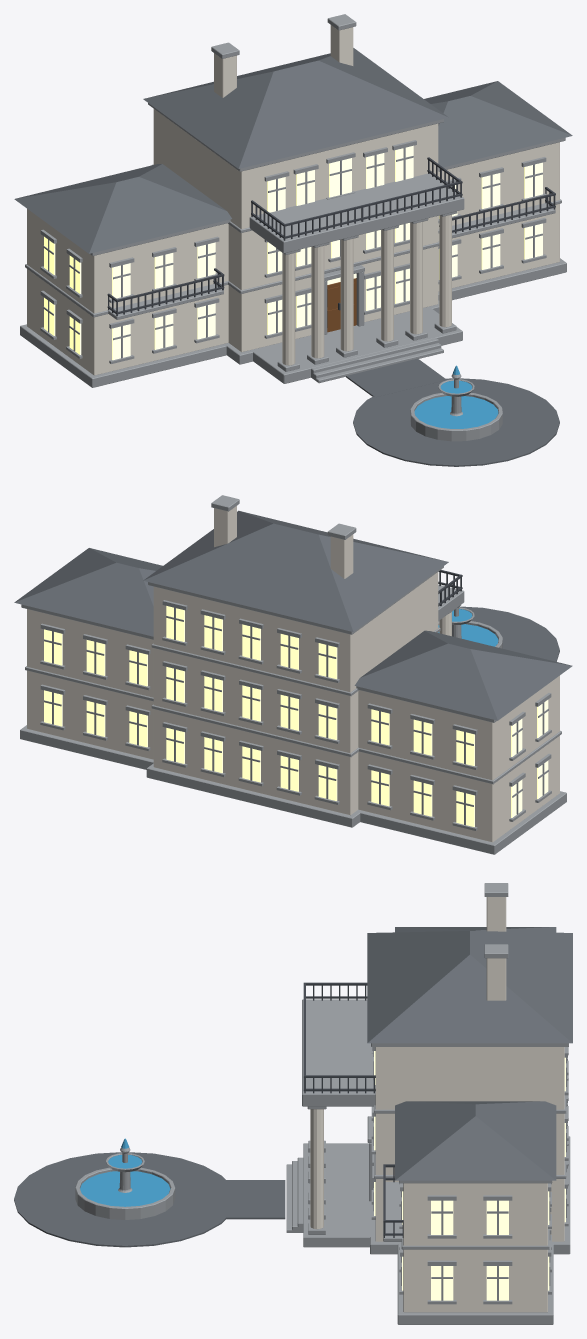
File: grand-white-mansion.glb
3 views of the same model, one above another, from view 1: azimuth 30°, elevation 25°; view 2: azimuth 150°, elevation 25°; view 3: azimuth 270°, elevation 25° (orthographic). The views are drawn at different scales.
Visible parts, largest first — view 1: Walls, Trim, Roof_Main, Windows, Drive, Roof_Wing_L, Columns, WindowFrames, Roof_Wing_R, Railings, FountainWater, Fountain (+1 smaller); view 2: Walls, Roof_Main, Windows, Trim, WindowFrames, Roof_Wing_L, Roof_Wing_R, Drive, FountainWater, Fountain, Railings; view 3: Walls, Trim, Roof_Main, Drive, Roof_Wing_R, Windows, WindowFrames, FountainWater, Fountain, Railings, Columns, Roof_Wing_L.
Boxes of the visible parts, x1=… form: Walls: x1=27, y1=25, x2=559, y2=375; Trim: x1=20, y1=14, x2=566, y2=387; Roof_Main: x1=143, y1=48, x2=448, y2=168; Windows: x1=44, y1=145, x2=542, y2=360; Drive: x1=346, y1=358, x2=559, y2=466; Roof_Wing_L: x1=14, y1=164, x2=231, y2=253; Columns: x1=282, y1=214, x2=451, y2=365; WindowFrames: x1=40, y1=140, x2=546, y2=363; Roof_Wing_R: x1=424, y1=81, x2=572, y2=168; Railings: x1=107, y1=157, x2=555, y2=316; FountainWater: x1=414, y1=365, x2=498, y2=428; Fountain: x1=410, y1=374, x2=502, y2=441; Walls: x1=27, y1=506, x2=559, y2=842; Roof_Main: x1=143, y1=510, x2=448, y2=631; Windows: x1=44, y1=606, x2=548, y2=826; Trim: x1=20, y1=495, x2=566, y2=854; WindowFrames: x1=40, y1=600, x2=551, y2=830; Roof_Wing_L: x1=354, y1=630, x2=572, y2=720; Roof_Wing_R: x1=14, y1=548, x2=162, y2=636; Drive: x1=459, y1=606, x2=559, y2=661; FountainWater: x1=438, y1=609, x2=498, y2=646; Fountain: x1=438, y1=605, x2=502, y2=648; Railings: x1=438, y1=570, x2=462, y2=606; Walls: x1=375, y1=897, x2=564, y2=1312; Trim: x1=286, y1=883, x2=570, y2=1324; Roof_Main: x1=367, y1=931, x2=572, y2=1043; Drive: x1=14, y1=1152, x2=285, y2=1247; Roof_Wing_R: x1=395, y1=1101, x2=556, y2=1180; Windows: x1=374, y1=1051, x2=565, y2=1300; WindowFrames: x1=371, y1=1047, x2=568, y2=1304; FountainWater: x1=80, y1=1138, x2=170, y2=1206; Fountain: x1=75, y1=1147, x2=175, y2=1219; Railings: x1=303, y1=982, x2=403, y2=1237; Columns: x1=310, y1=1109, x2=323, y2=1229; Roof_Wing_L: x1=395, y1=927, x2=556, y2=932.
Size of the model in its own units: 108 by 56 by 100.
